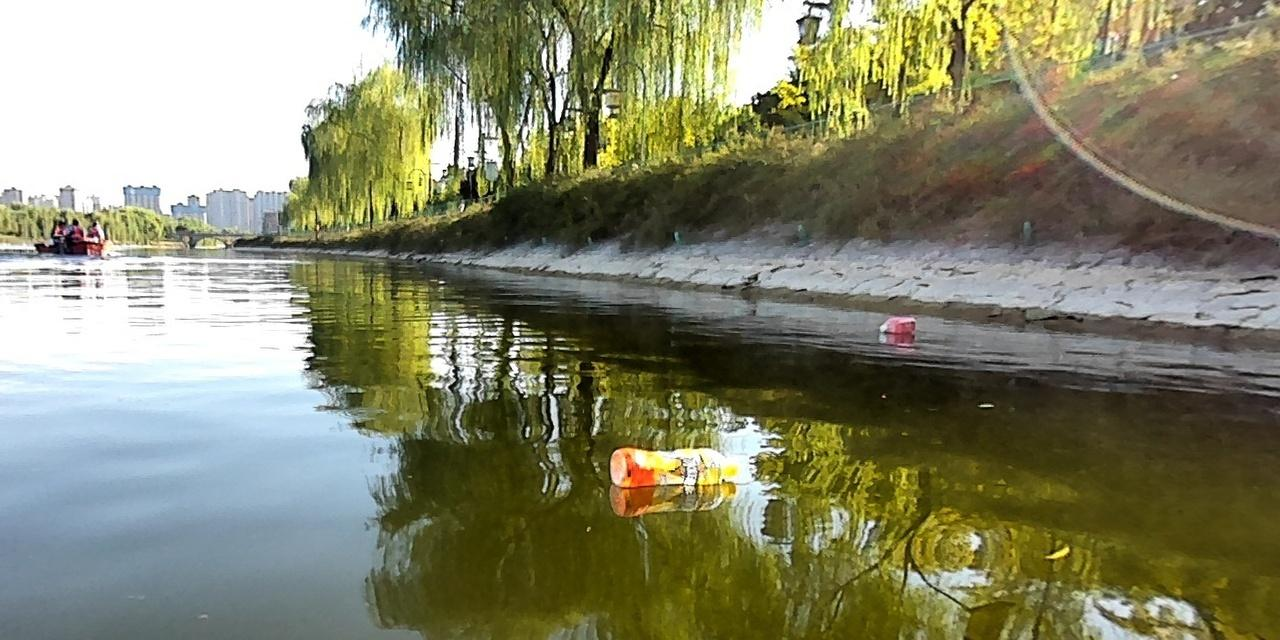bottle: (607, 444, 739, 488), (875, 313, 919, 335)
